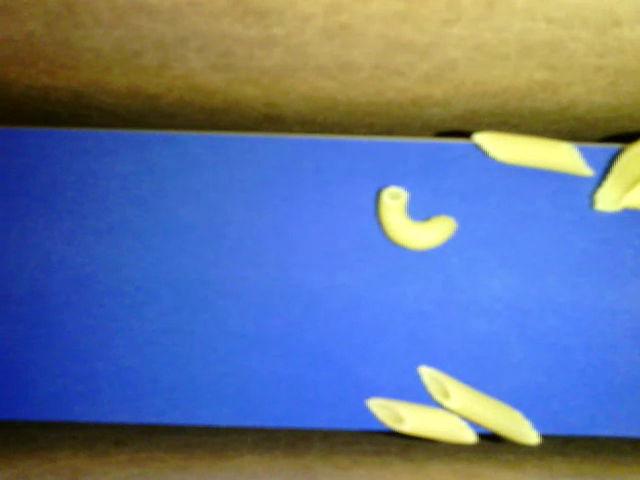elbow: (375, 184, 457, 251)
penne: (416, 364, 543, 446), (471, 130, 595, 176), (364, 396, 477, 445)
shell: (594, 139, 639, 212)
